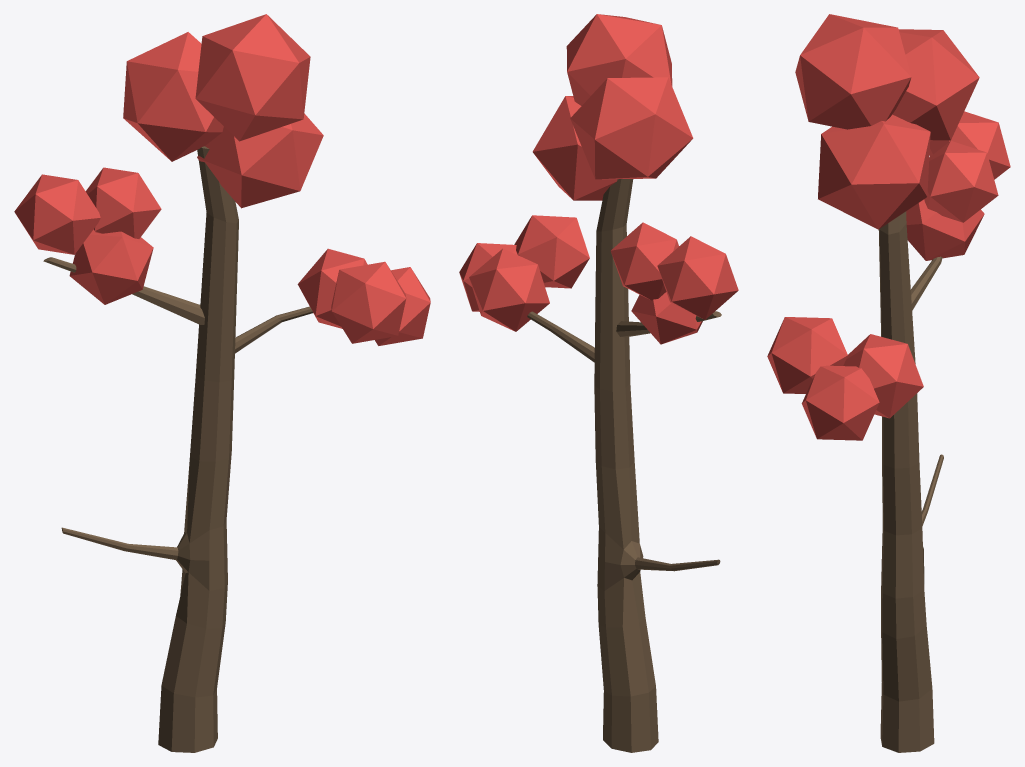
Rendered from OakTree2_SM.fbx.
3 renders of one model, left to right at view 1: azimuth 30°, elevation 25°; view 2: azimuth 150°, elevation 25°; view 3: azimuth 270°, elevation 25°, orthographic. The views are drawn at different scales.
Visible parts, largest first — view 1: OakTree2_SM; view 2: OakTree2_SM; view 3: OakTree2_SM.
Boxes of the visible parts, left/top/right/bottom form: OakTree2_SM: left=14, top=14, right=430, bottom=752; OakTree2_SM: left=459, top=14, right=738, bottom=752; OakTree2_SM: left=767, top=14, right=1010, bottom=752.
Bounding box in the file's own units: 185 × 374 × 111.
